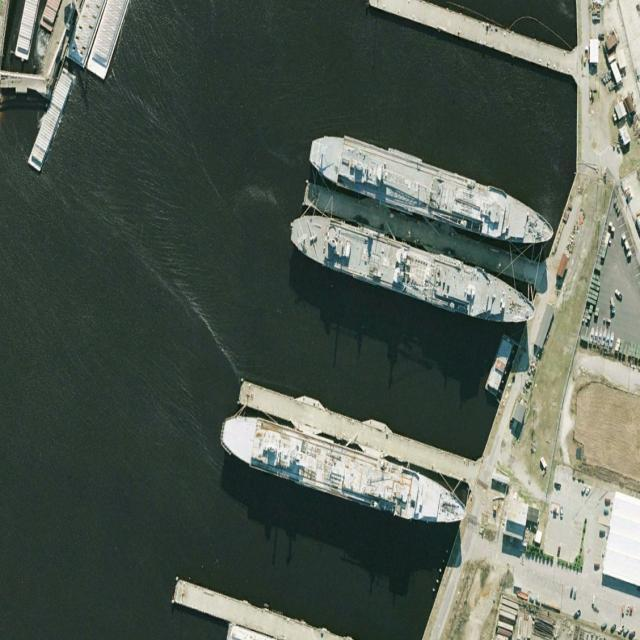Other Ship: (305, 120, 559, 261), (217, 402, 472, 540), (285, 202, 541, 338)
